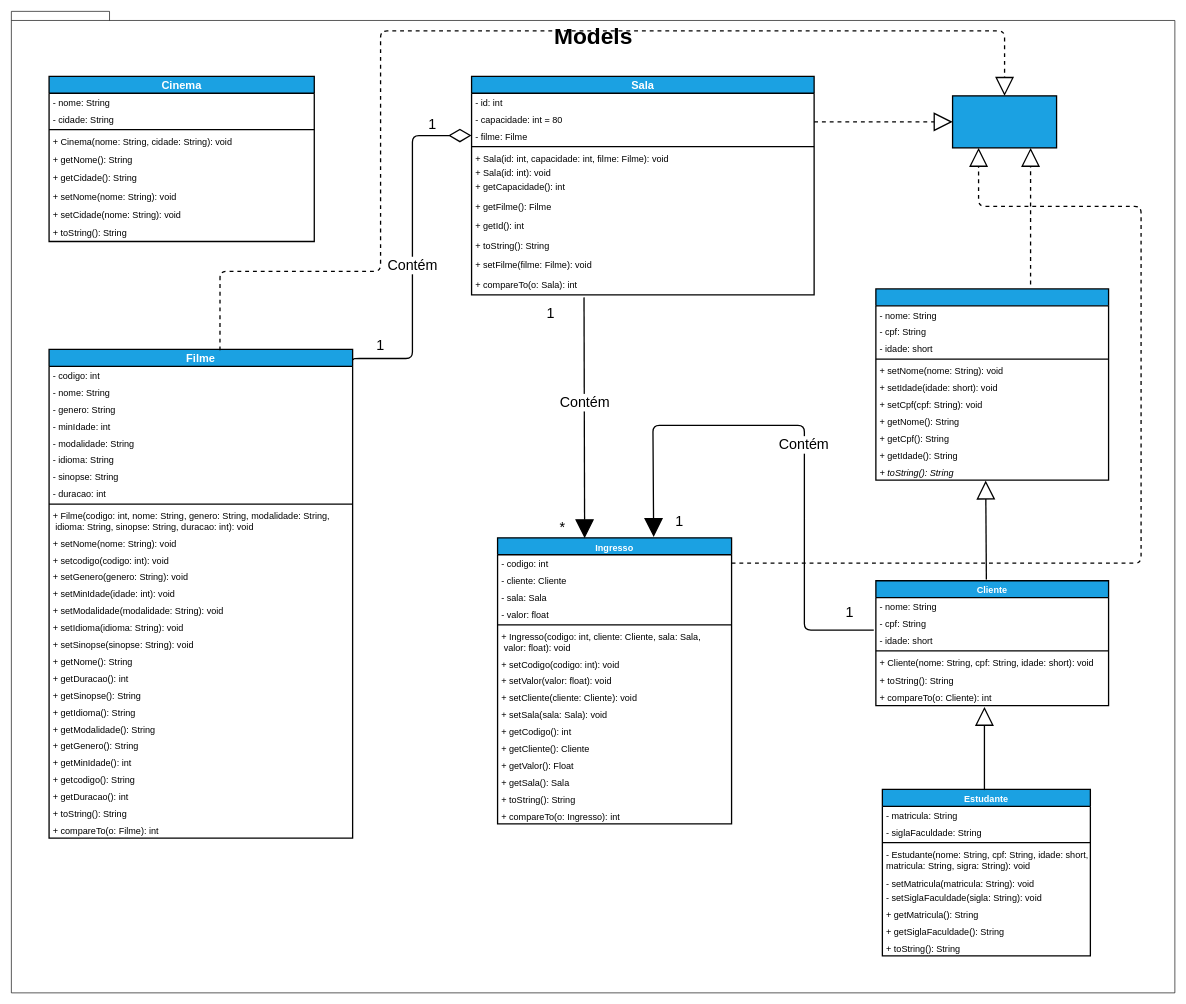
This 1186x1004 diagram has some shape labels left out. The shapes that lost their labels are listed below. From the top down, each one's box as (x1, y1, x2, y2) in pixels, then its label:
(952, 95, 1057, 148): «Interface» Comparable
(875, 288, 1109, 480): Pessoa
